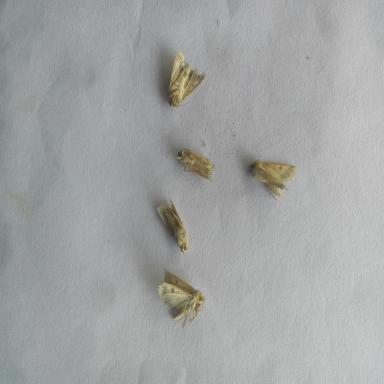abw: (154, 266, 208, 333), (161, 44, 208, 114), (244, 152, 300, 204), (154, 195, 196, 257), (174, 142, 217, 184)
